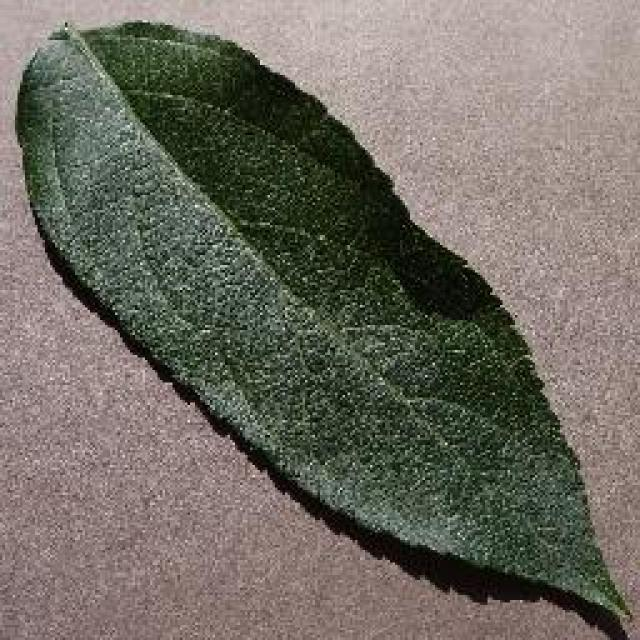apple healthy: (13, 15, 635, 637)
